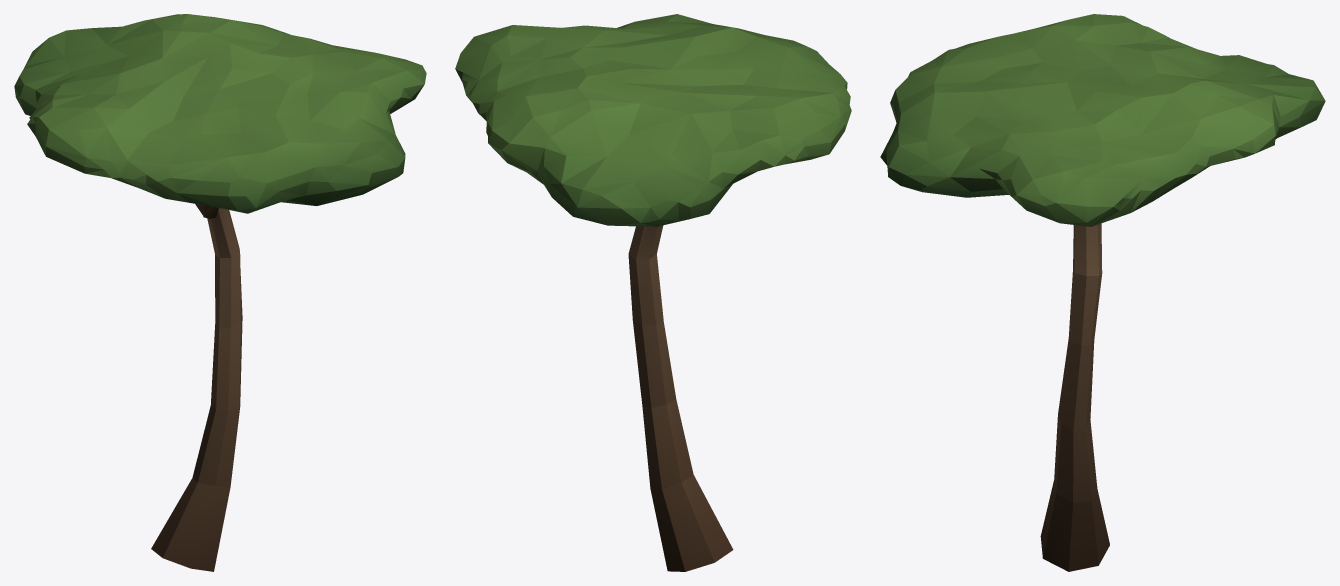
Rendered from pinia_2.glb.
3 views of the same model, side by side, from view 1: azimuth 30°, elevation 25°; view 2: azimuth 150°, elevation 25°; view 3: azimuth 270°, elevation 25° (orthographic). The views are drawn at different scales.
Visible parts, largest first — view 1: pinia_2; view 2: pinia_2; view 3: pinia_2.
Part boxes in pixels (box(x1,y1,x2,y2)): pinia_2: box(14, 14, 426, 571); pinia_2: box(455, 14, 851, 571); pinia_2: box(880, 14, 1325, 571).
Bounding box in the file's own units: 2.26 × 2.88 × 2.32.
